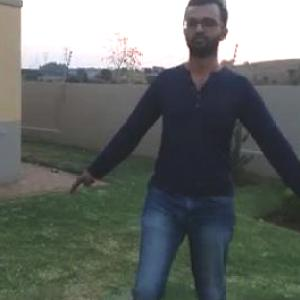land: (48, 0, 299, 296)
